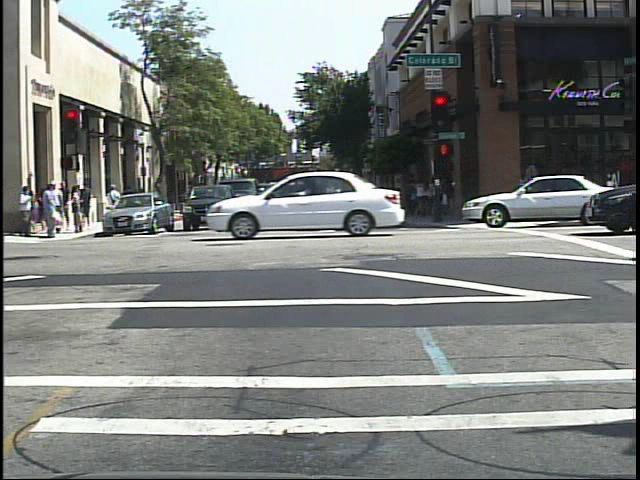person: (104, 179, 123, 227)
